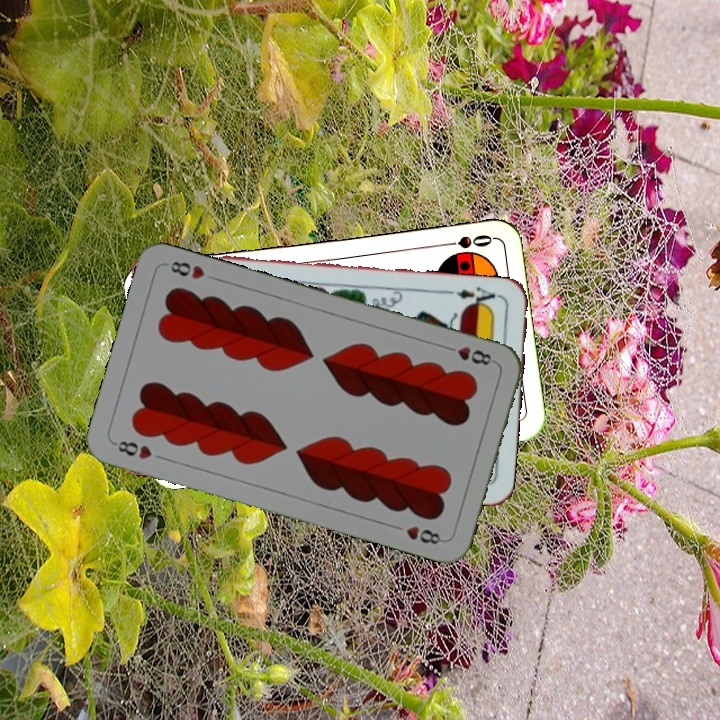EA: (445, 282, 504, 311)
H8: (440, 342, 498, 368), (109, 436, 155, 462)
SO: (436, 230, 495, 251)
